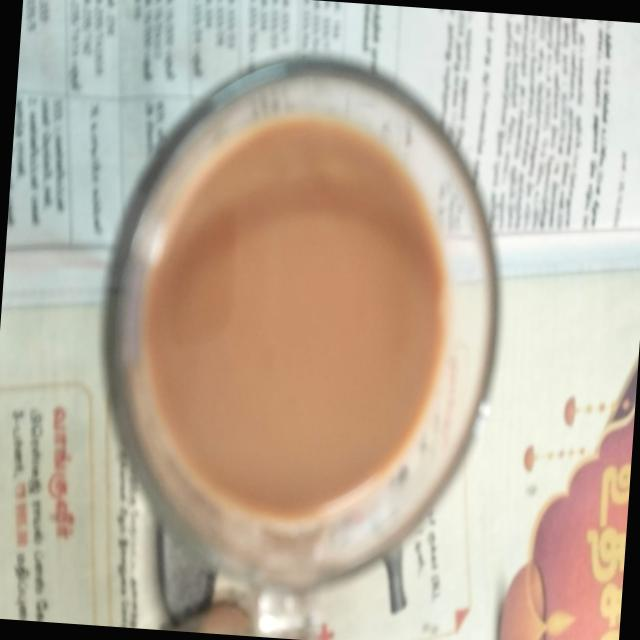glass-VX4N: (78, 45, 516, 640)
